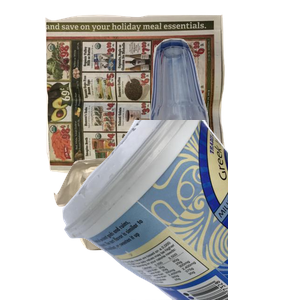glass: (147, 36, 300, 168)
paper: (42, 12, 260, 185)
plastic: (60, 120, 300, 300)
trash: (51, 155, 261, 300)
